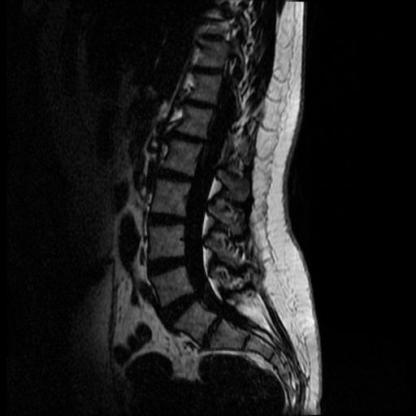Annular Disc Relaxationrotation: (156, 294, 201, 322), (200, 311, 227, 347)
Degenerative Disc Diseaserotation: (162, 286, 190, 331), (201, 311, 224, 347), (158, 167, 195, 185)
Disc Bulgerotation: (157, 167, 194, 186)
